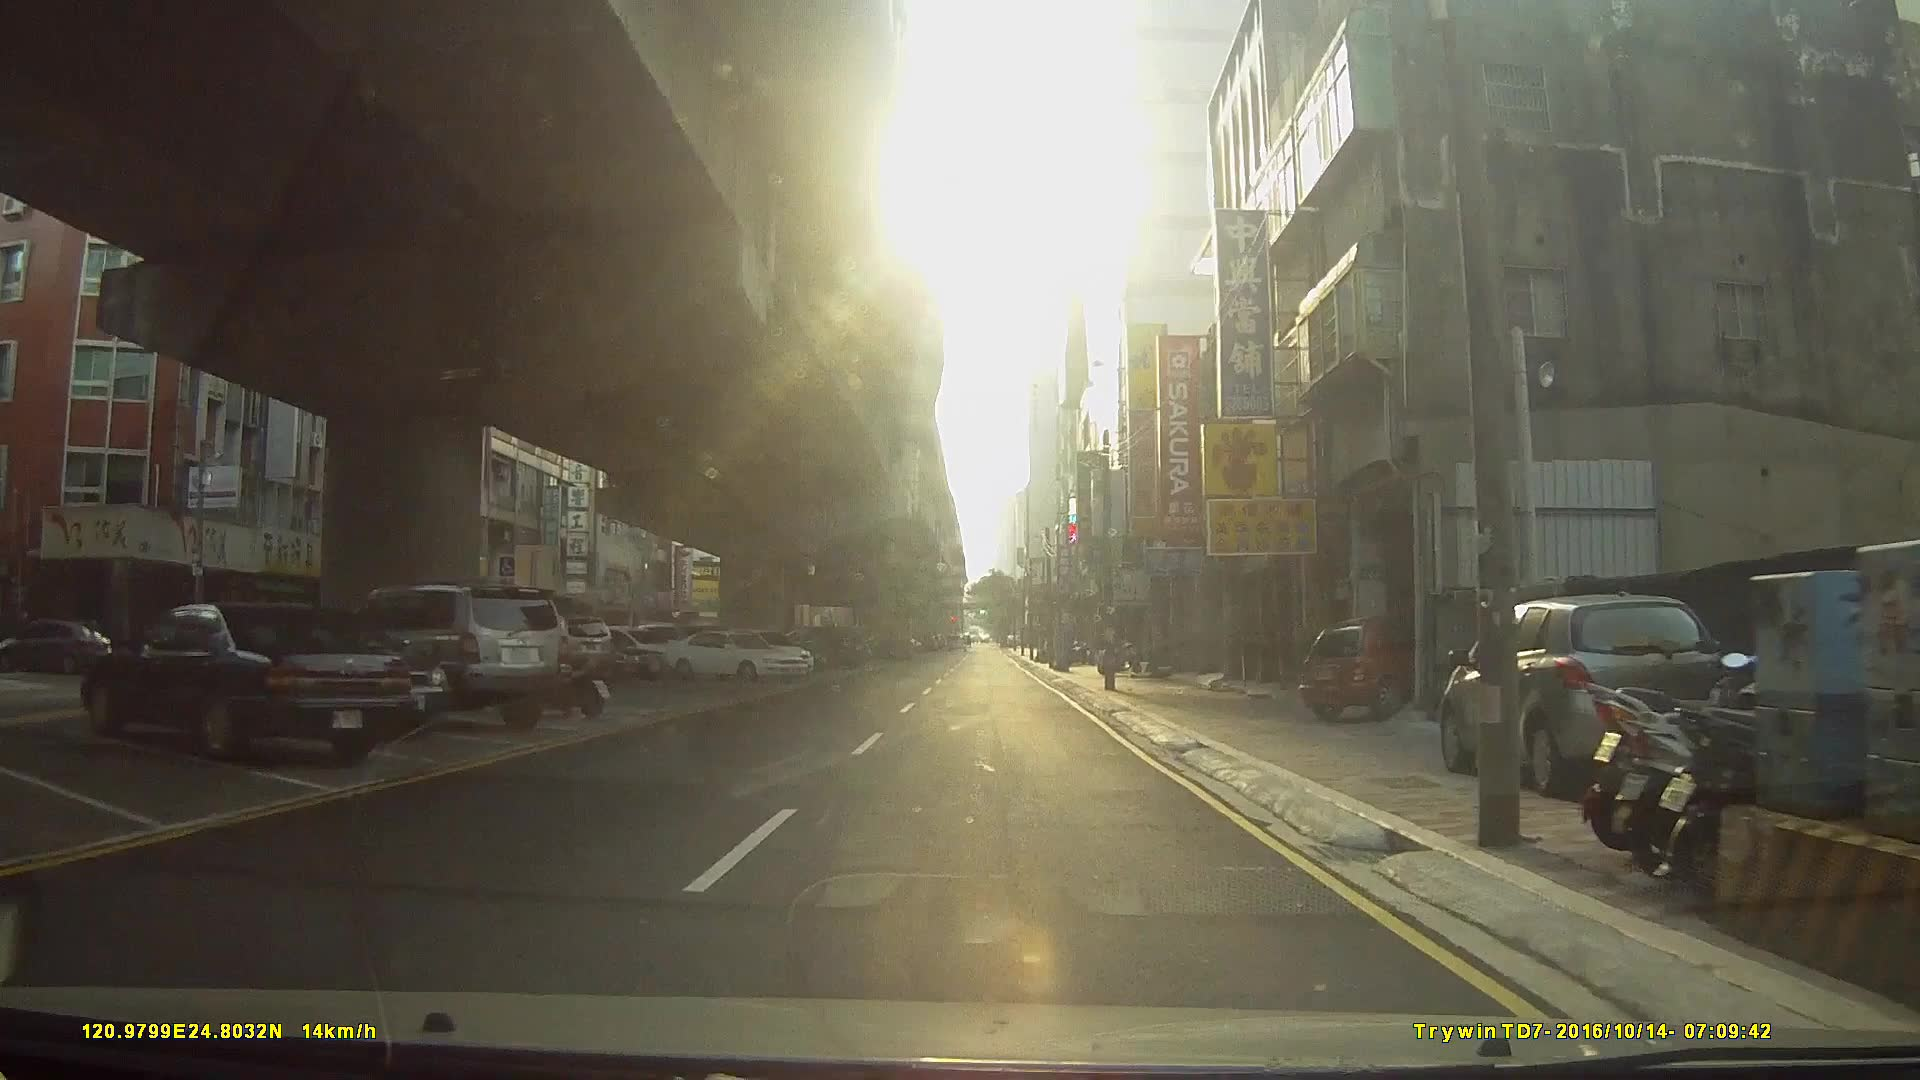vehicle: (1437, 589, 1733, 793), (79, 601, 413, 760), (330, 579, 568, 735), (1298, 611, 1462, 719), (659, 622, 810, 680), (513, 613, 615, 680), (0, 617, 111, 673)
